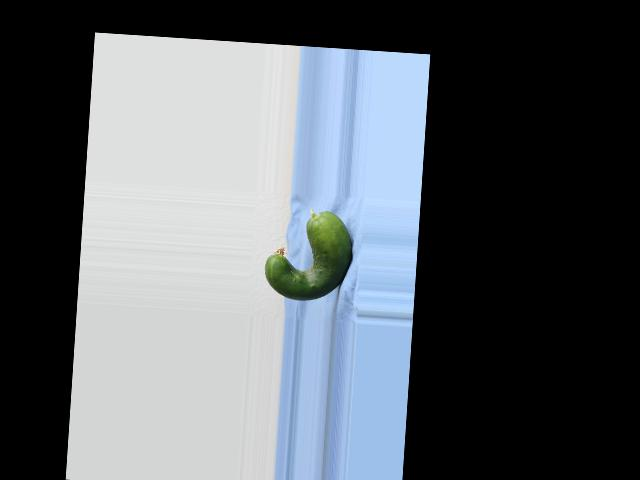cucumber: (263, 207, 354, 303)
